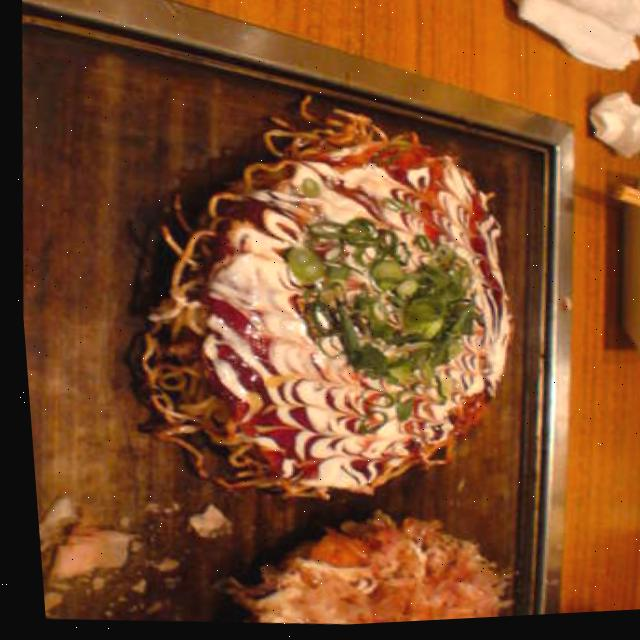蛋糕甜品: (119, 73, 564, 526)
